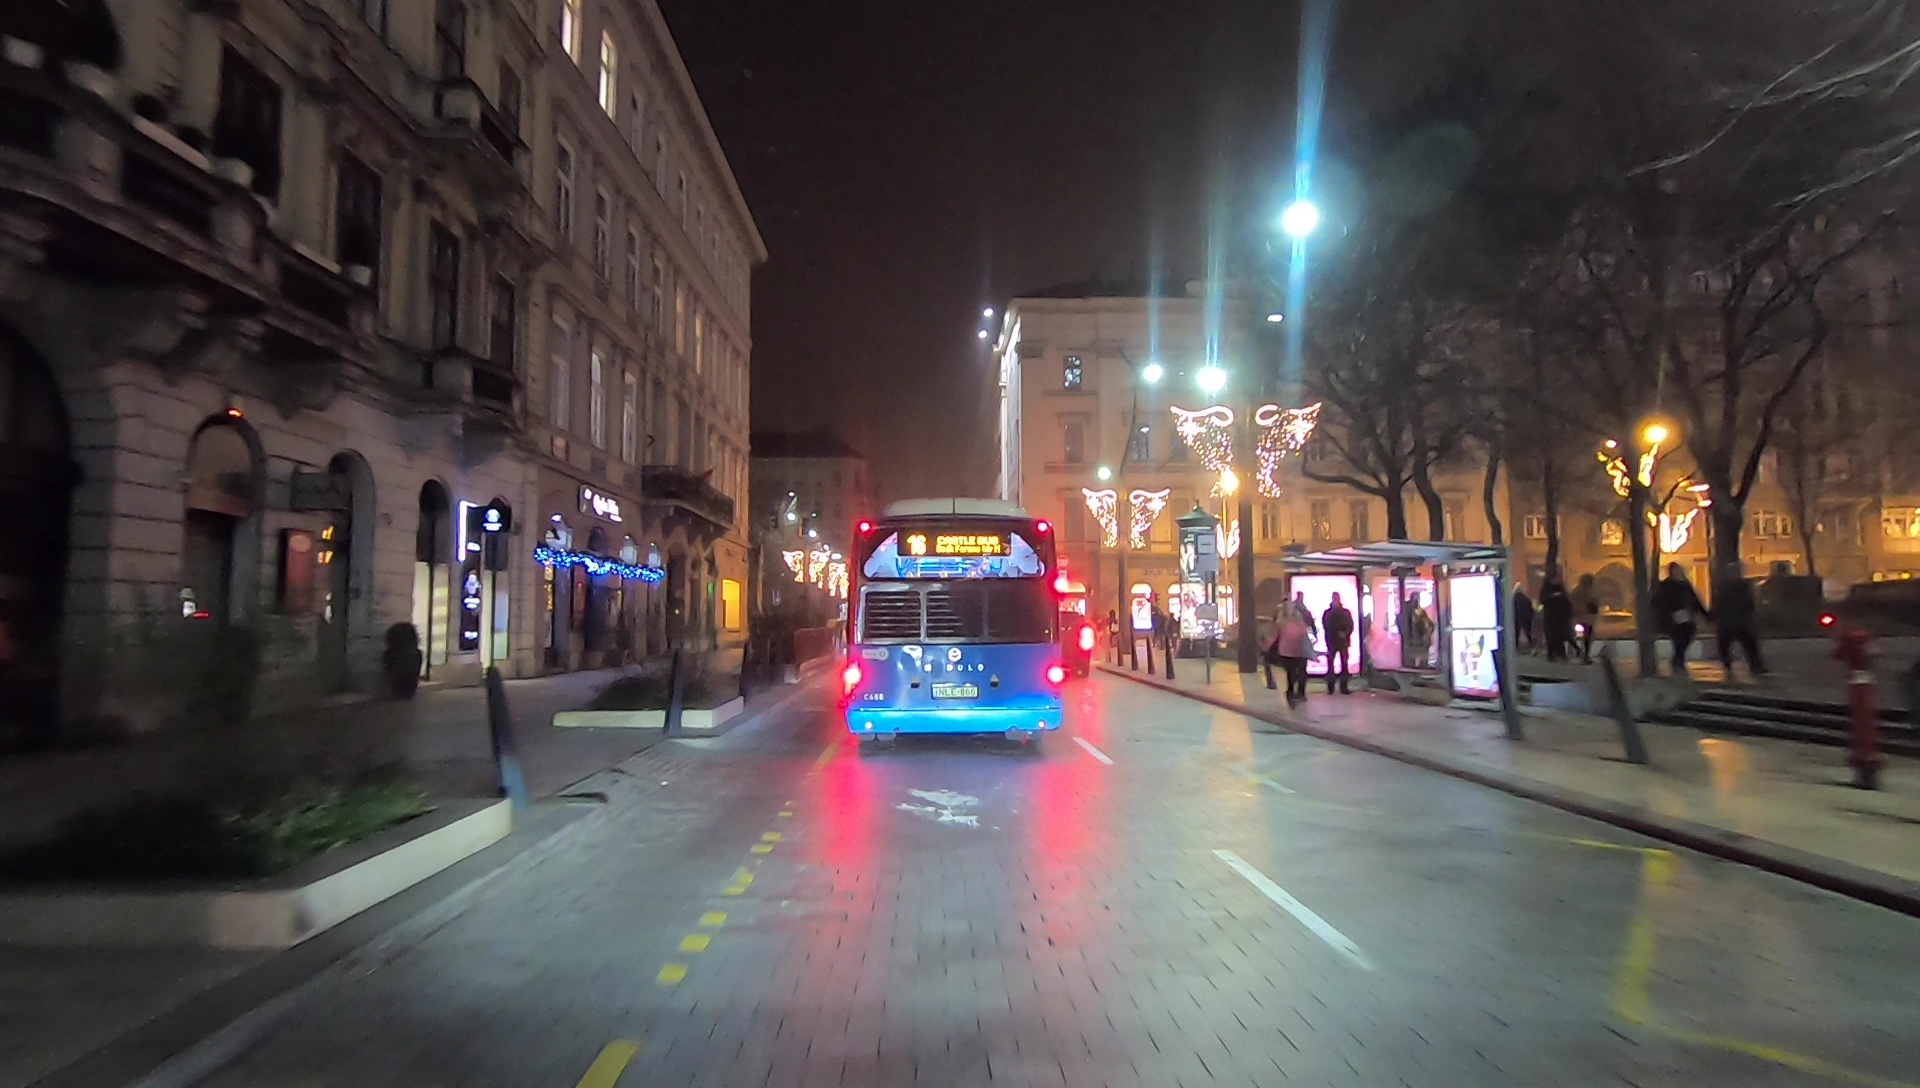person: (1712, 560, 1766, 678), (1657, 560, 1703, 674), (1275, 601, 1313, 703), (1325, 589, 1356, 695), (1572, 570, 1599, 663)
